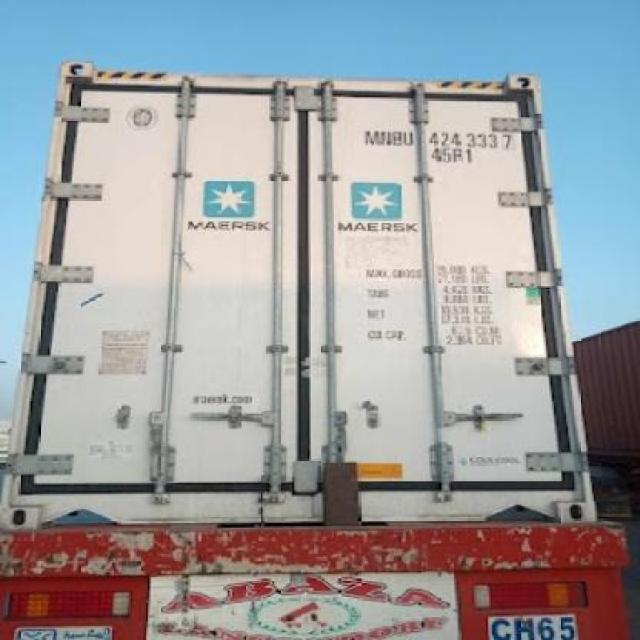ISO: (432, 145, 475, 165)
container_number: (363, 128, 513, 152)
